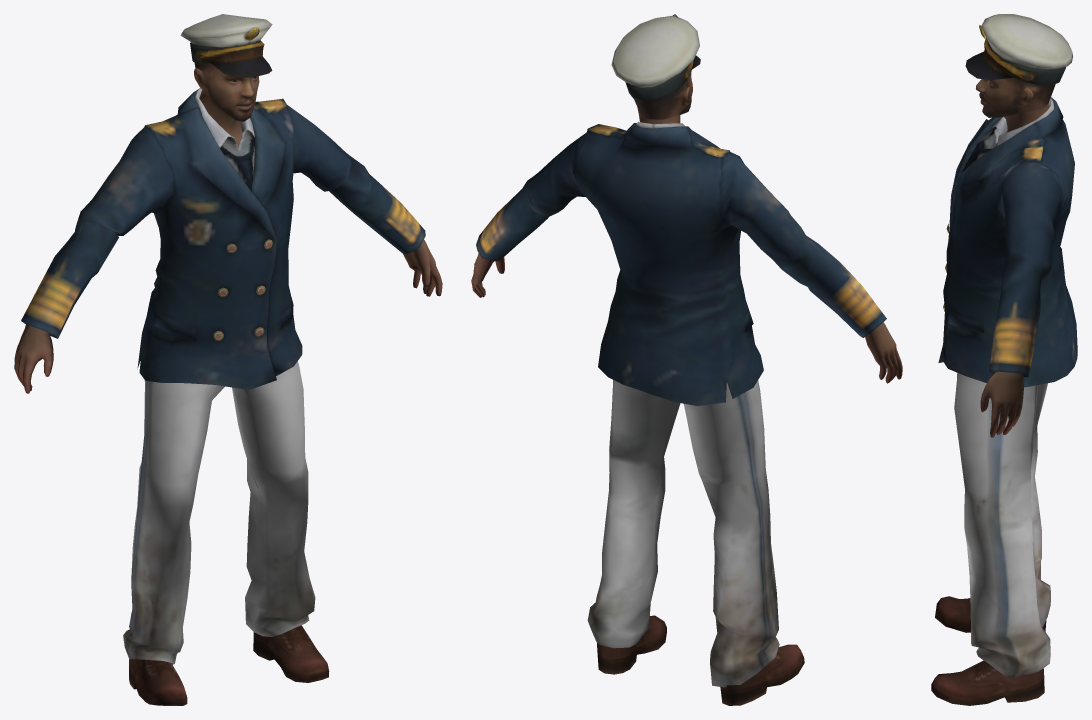
The model's file is Ford.FBX.
3 views of the same model, side by side, from view 1: azimuth 30°, elevation 25°; view 2: azimuth 150°, elevation 25°; view 3: azimuth 270°, elevation 25° (orthographic).
Visible parts, largest first — view 1: Mesh_3737.rip; view 2: Mesh_3737.rip; view 3: Mesh_3737.rip.
Boxes of the visible parts, x1,y1,x2,y2 form: Mesh_3737.rip: (14, 14, 442, 705); Mesh_3737.rip: (471, 14, 902, 705); Mesh_3737.rip: (931, 14, 1077, 705).
Bounding box in the file's own units: 1.28 × 1.88 × 0.3838.
Materials: 1 (1 with a texture image).
